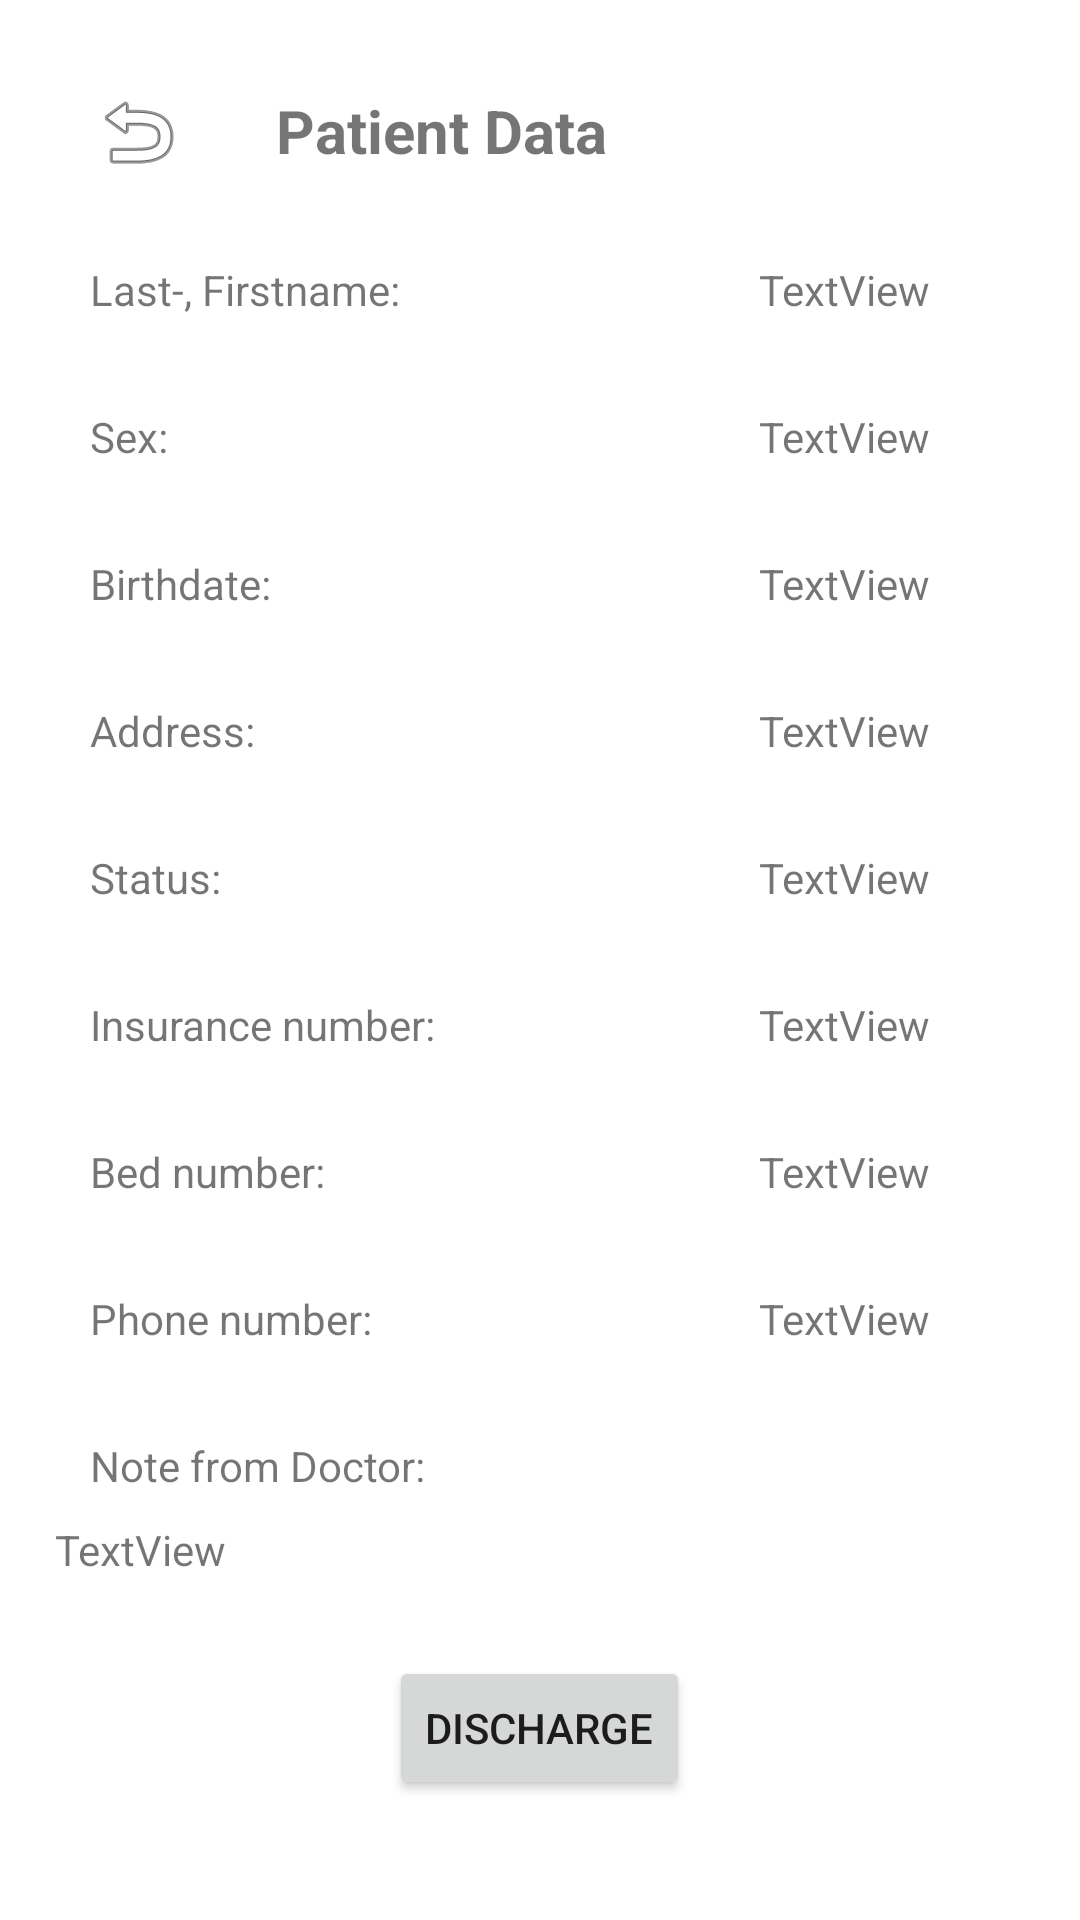

Icon click points for this 1080x1920 phone screenshot, format [x,y]:
revert: [139,132]
